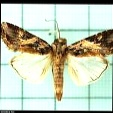Spodoptera litura: (1, 17, 112, 101)
